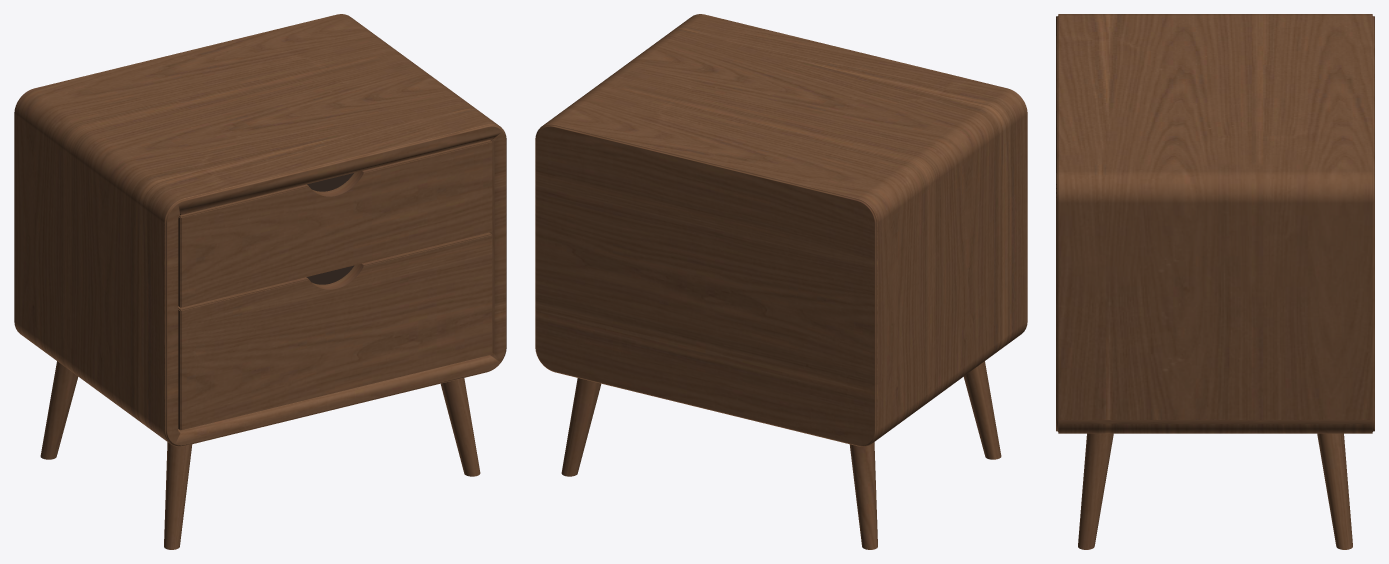
Rendered from mid-century-walnut-nightstand.glb.
3 renders of one model, left to right at view 1: azimuth 30°, elevation 25°; view 2: azimuth 150°, elevation 25°; view 3: azimuth 270°, elevation 25°, orthographic. The views are drawn at different scales.
Parts seen in each view (by area): view 1: shell, front_lo, front_up, leg_-1_-1, leg_1_-1, leg_-1_1, cavity; view 2: shell, leg_-1_1, leg_1_1, leg_-1_-1; view 3: shell, leg_1_1, leg_1_-1.
Part boxes in pixels (<box>): shell: <box>14,14,506,446</box>; front_lo: <box>178,232,492,430</box>; front_up: <box>178,140,492,307</box>; leg_-1_-1: <box>164,442,192,549</box>; leg_1_-1: <box>440,378,480,476</box>; leg_-1_1: <box>40,361,77,459</box>; cavity: <box>306,173,354,284</box>; shell: <box>535,14,1027,446</box>; leg_-1_1: <box>849,442,877,549</box>; leg_1_1: <box>561,378,601,476</box>; leg_-1_-1: <box>964,361,1001,459</box>; shell: <box>1056,14,1374,433</box>; leg_1_1: <box>1317,433,1352,549</box>; leg_1_-1: <box>1078,433,1113,549</box>.
Size of the model in its own units: 0.52 by 0.52 by 0.4.
Materials: 3 (2 with a texture image).
